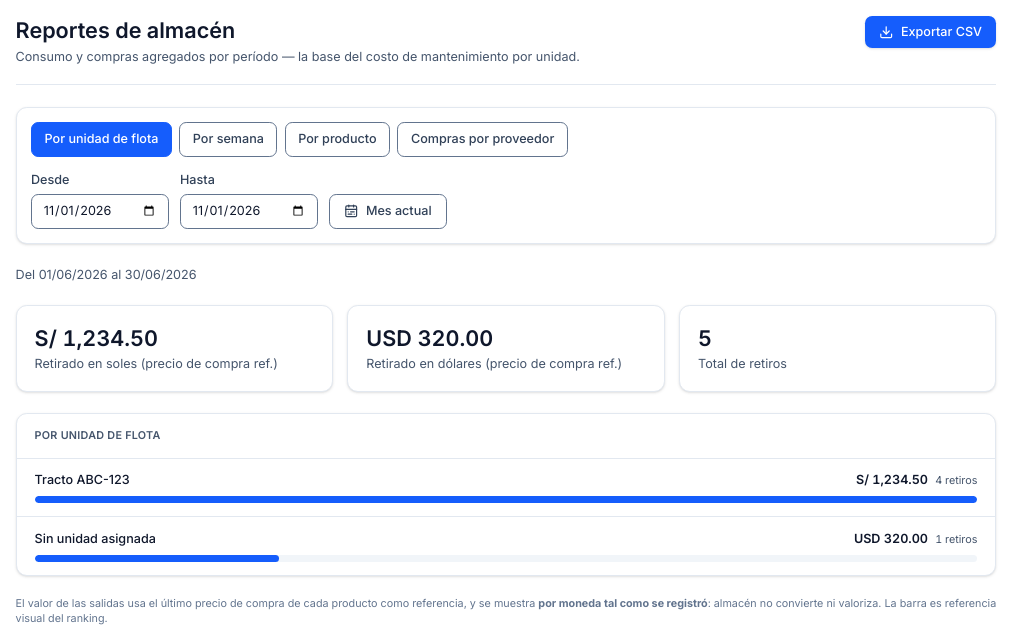
Test: WarehouseReportsPage › muestra el lunes de la semana formateado en el corte por semana
The width and height of the screenshot is (1014, 642).
Expected: the text "Tracto ABC-123" is shown, x1=35 y1=471 x2=130 y2=489
Step 1. Click the tab "Por semana" → (228, 139), box x1=179 y1=122 x2=278 y2=156
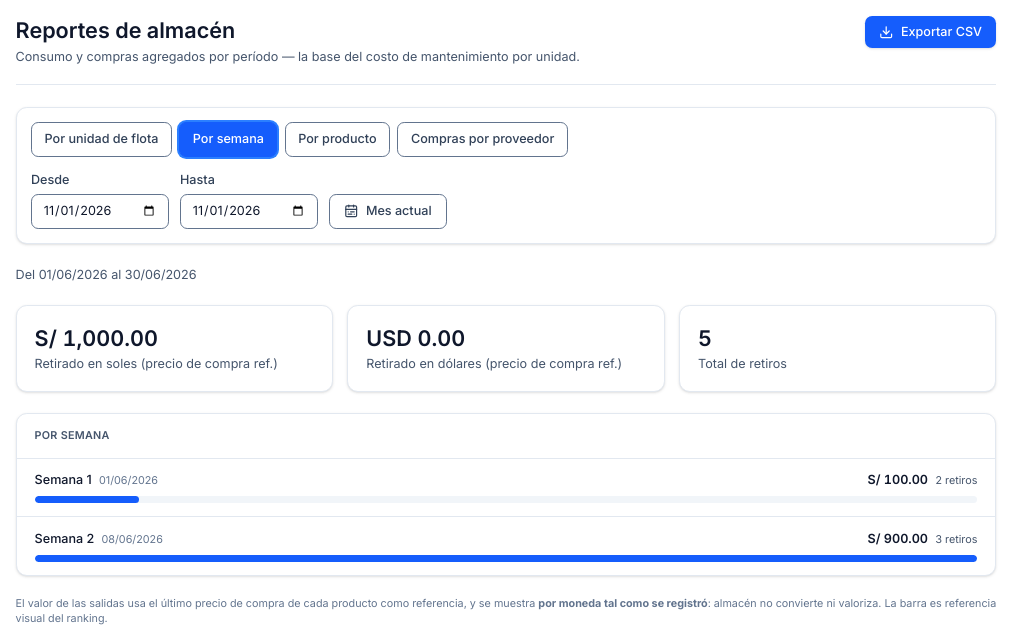
Expected: the text "01/06/2026" is shown, x1=99 y1=474 x2=158 y2=487
Expected: the text "08/06/2026" is shown, x1=102 y1=533 x2=163 y2=546
